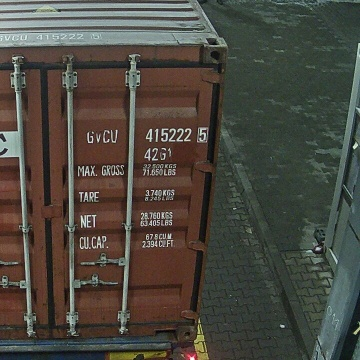serial_id: (87, 128, 206, 143)
